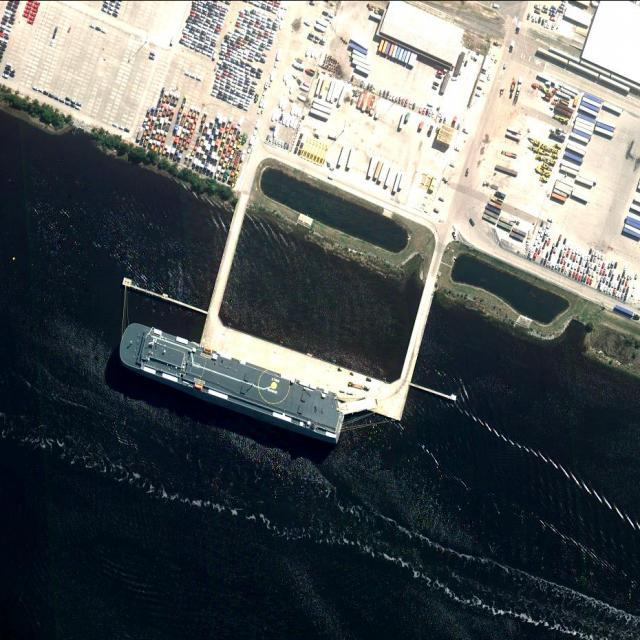Dock: (195, 319, 412, 421)
RoRo: (107, 317, 363, 442)
